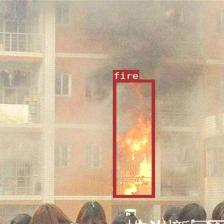fire: (112, 79, 154, 197)
